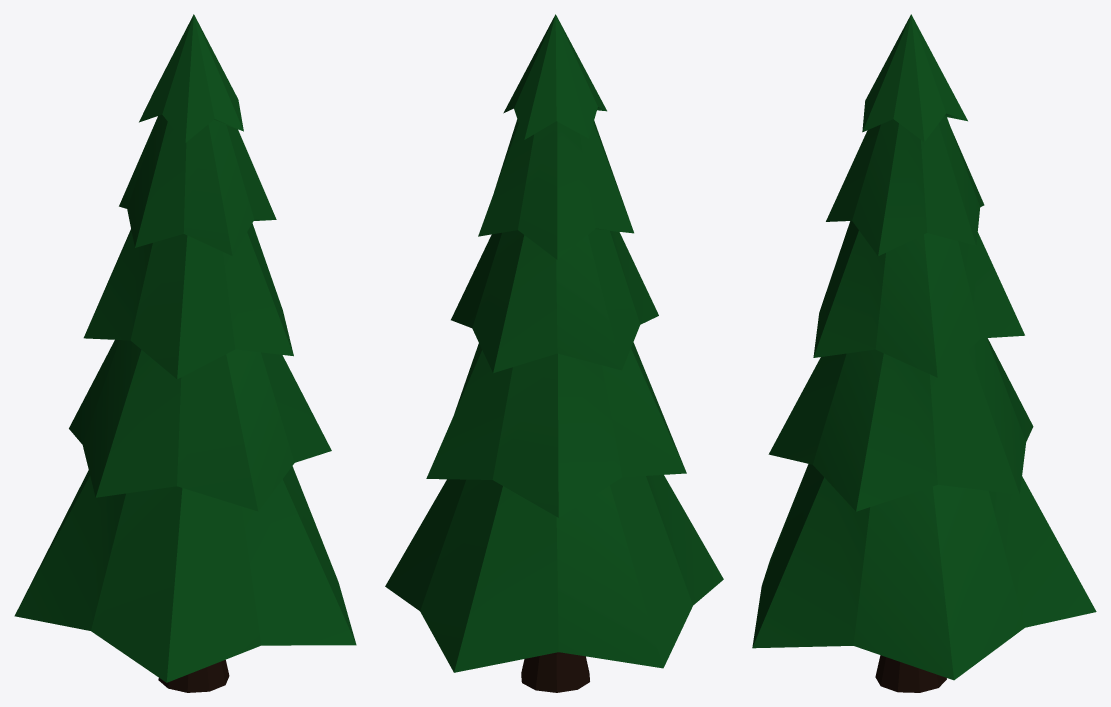
Rendered from sprouce1.FBX.
The picture shows the model from 3 angles, left to right: view 1: azimuth 30°, elevation 25°; view 2: azimuth 150°, elevation 25°; view 3: azimuth 270°, elevation 25°; orthographic projection.
Parts seen in each view (by area): view 1: Cylinder002, Cylinder003; view 2: Cylinder002, Cylinder003; view 3: Cylinder002, Cylinder003.
Part boxes in pixels (x1=…): Cylinder002: x1=14, y1=14, x2=356, y2=682; Cylinder003: x1=158, y1=660, x2=229, y2=692; Cylinder002: x1=385, y1=14, x2=723, y2=672; Cylinder003: x1=521, y1=652, x2=589, y2=692; Cylinder002: x1=752, y1=14, x2=1096, y2=680; Cylinder003: x1=875, y1=655, x2=946, y2=692.
Size of the model in its own units: 15.3 by 33.15 by 15.58.
